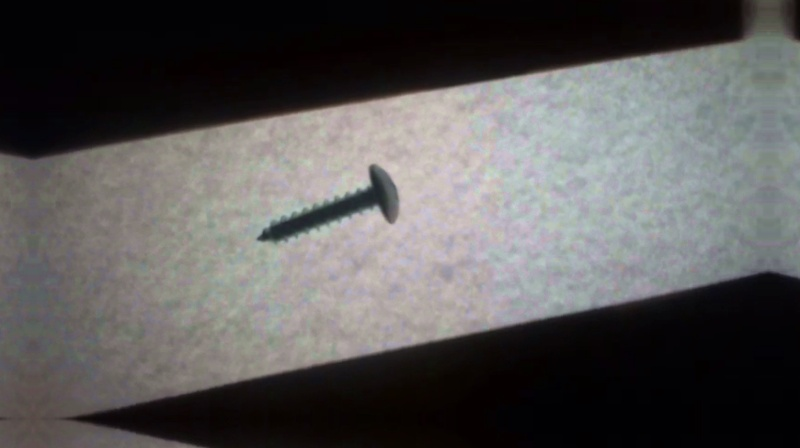S003: (251, 160, 403, 248)
